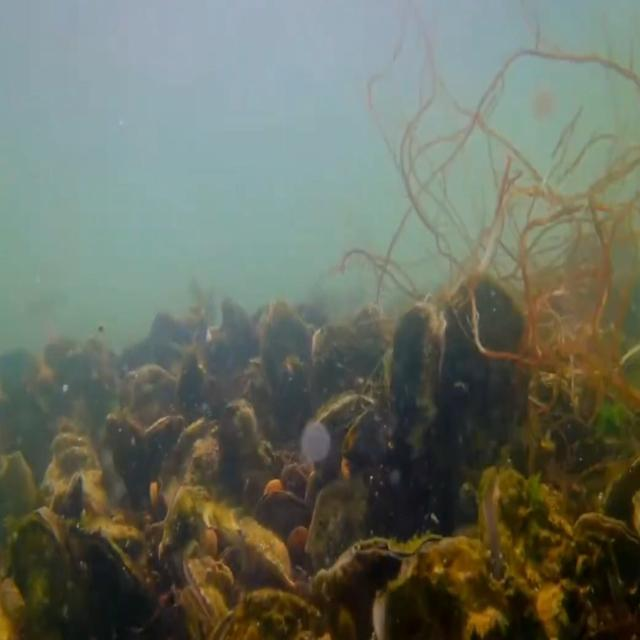Oyster-Closed: (68, 521, 155, 640), (560, 510, 639, 640), (158, 484, 208, 596), (183, 554, 227, 640), (56, 470, 83, 516)
Oyster-Indeterminate: (437, 266, 525, 459), (10, 505, 79, 640), (388, 302, 446, 462), (305, 478, 372, 572), (104, 409, 154, 516), (0, 450, 37, 560), (237, 517, 295, 584)
Oyster-Open: (475, 460, 574, 640), (304, 392, 380, 479), (171, 415, 221, 481)
